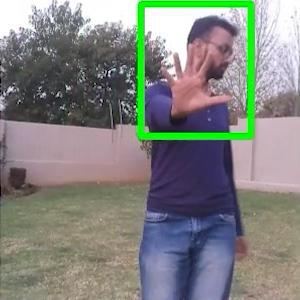follow_hand: (157, 35, 239, 118)
